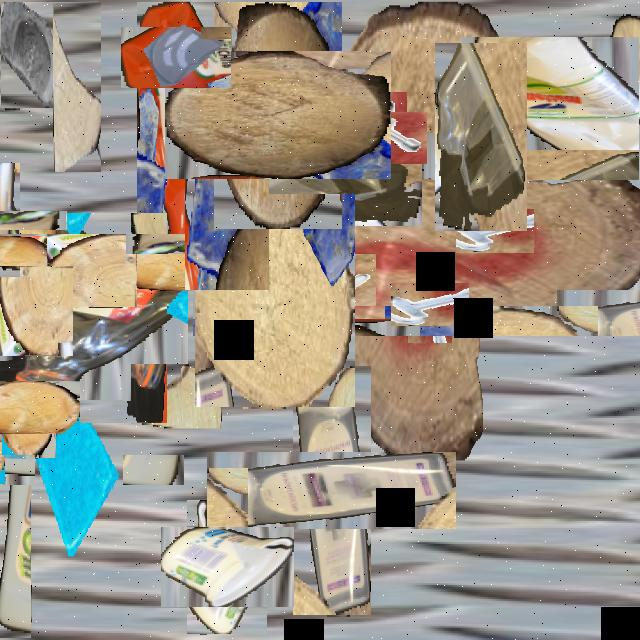glass: (35, 400, 123, 556), (185, 140, 269, 290), (133, 14, 219, 100), (1, 2, 61, 108), (195, 82, 251, 181), (0, 369, 35, 426)
metal: (345, 102, 417, 175), (400, 274, 460, 334)
plastic: (0, 223, 177, 412), (478, 19, 640, 197), (250, 409, 414, 572), (137, 2, 217, 286), (0, 377, 107, 561), (435, 43, 527, 231), (174, 513, 280, 621), (0, 187, 43, 254)
wood: (258, 67, 594, 402), (195, 194, 355, 407), (189, 27, 367, 204), (53, 2, 101, 172), (0, 266, 73, 356), (131, 364, 221, 428), (0, 367, 68, 446), (0, 286, 27, 339)
